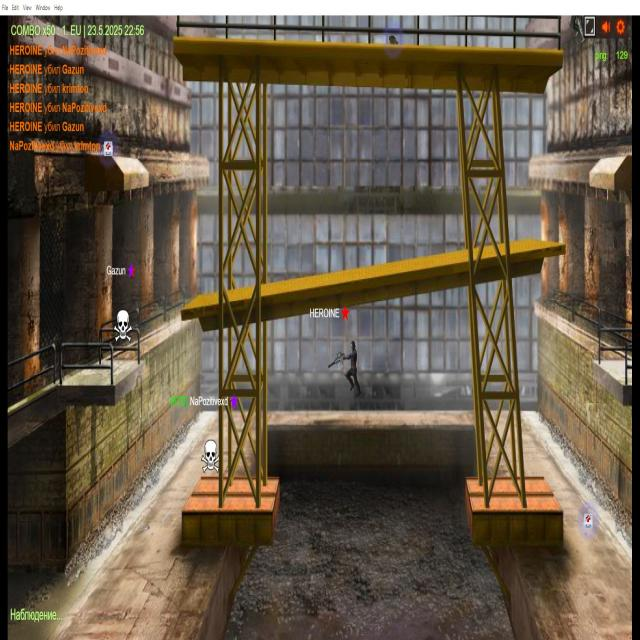enemy: (326, 336, 366, 404)
